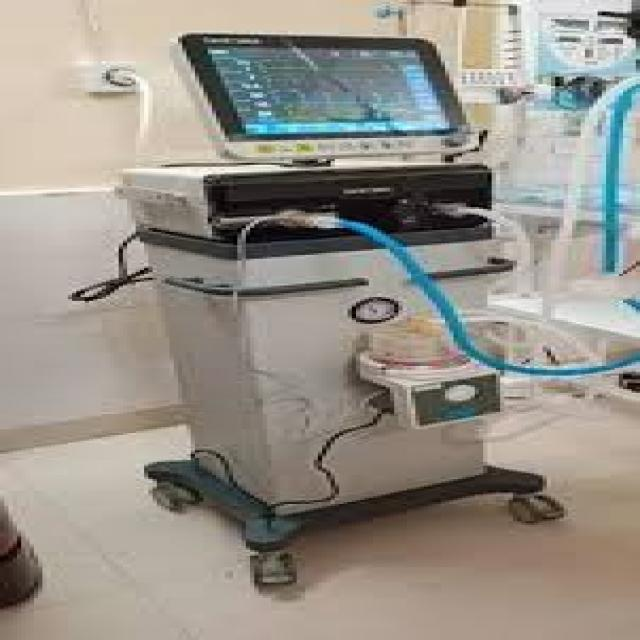ventilator: (107, 36, 509, 600)
